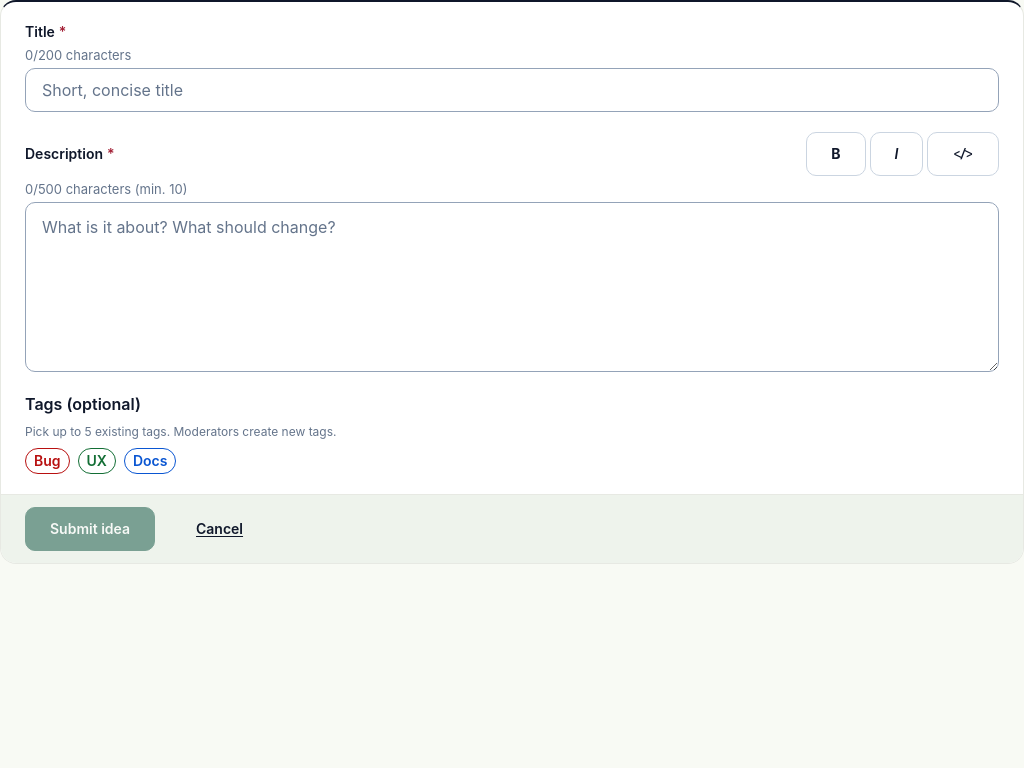
it: IdeaSubmitForm AI tag suggestions (P-35) › stays usable without suggestions when the suggester fails
The image size is (1024, 768).
Type "Dark mode please" into the field with id "submit-title" at coordinates (512, 90), box [25,68,999,112]
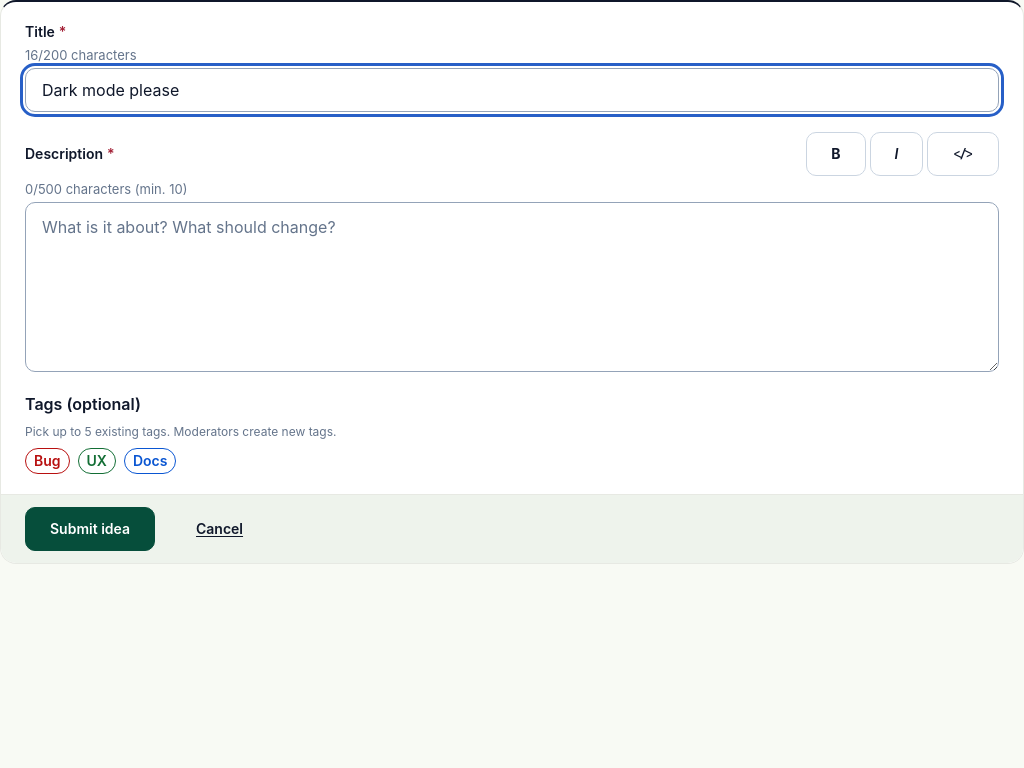
Now the button with test id "submit-idea-submit" is enabled, box [25,507,155,551]
